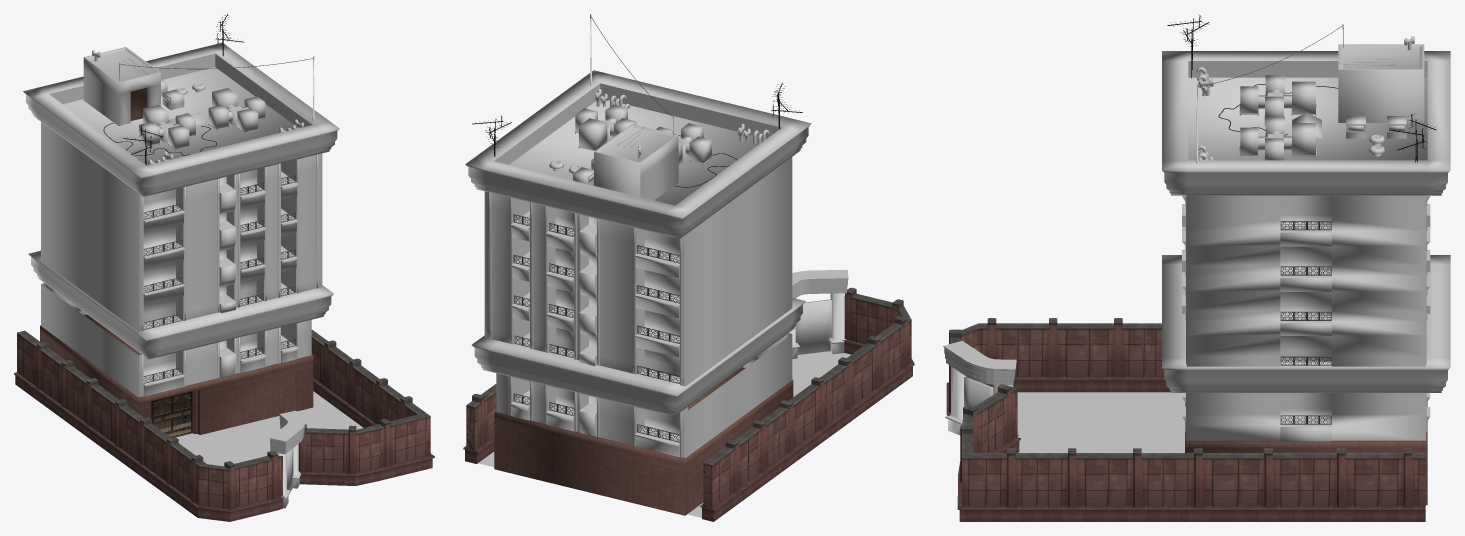
The model's file is edificio1C.obj.
3 renders of one model, left to right at view 1: azimuth 30°, elevation 25°; view 2: azimuth 150°, elevation 25°; view 3: azimuth 270°, elevation 25°, orthographic. The views are drawn at different scales.
Parts seen in each view (by area): view 1: Building00, Building04, Building01, Building02, Building03, Building08, Building05, Building21, Building14; view 2: Building00, Building01, Building04, Building03, Building02, Building08, Building21, Building05, Building14; view 3: Building04, Building01, Building00, Building02, Building05, Building08, Building03, Building21, Building14.
Part boxes in pixels (<box>): Building00: <box>41,122,322,331</box>; Building04: <box>14,329,434,521</box>; Building01: <box>23,43,339,359</box>; Building02: <box>41,283,311,397</box>; Building03: <box>40,314,313,437</box>; Building08: <box>83,47,160,125</box>; Building05: <box>176,391,363,466</box>; Building21: <box>208,88,265,134</box>; Building14: <box>139,105,196,151</box>; Building00: <box>484,157,792,386</box>; Building01: <box>465,70,811,416</box>; Building04: <box>463,269,914,521</box>; Building03: <box>494,367,793,515</box>; Building02: <box>496,333,792,457</box>; Building08: <box>594,116,678,200</box>; Building21: <box>575,104,636,150</box>; Building05: <box>478,351,850,517</box>; Building14: <box>656,123,712,165</box>; Building04: <box>943,318,1425,521</box>; Building01: <box>1162,51,1450,392</box>; Building00: <box>1182,195,1430,366</box>; Building02: <box>1182,393,1430,441</box>; Building05: <box>1017,392,1184,452</box>; Building08: <box>1338,24,1424,122</box>; Building03: <box>1185,402,1427,505</box>; Building21: <box>1239,116,1316,160</box>; Building14: <box>1239,75,1316,125</box>.
Bounding box in the file's own units: 96.38 × 138 × 150.
